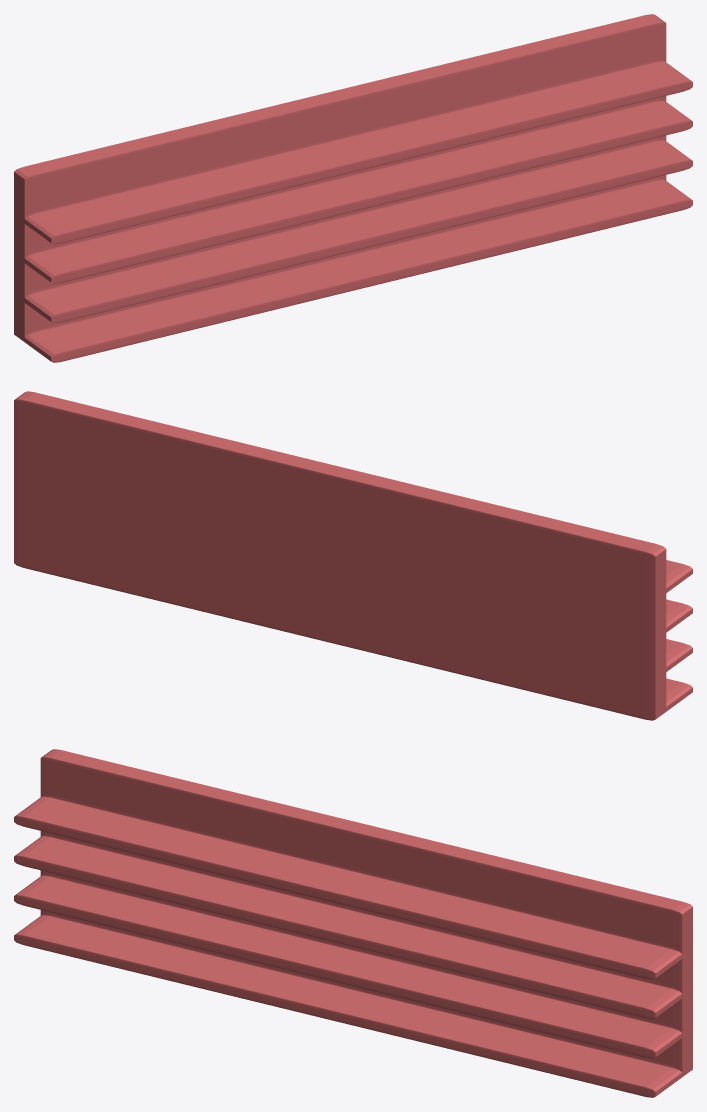
File: new_rack_custom.fbx
3 renders of one model, top to bottom at view 1: azimuth 30°, elevation 25°; view 2: azimuth 150°, elevation 25°; view 3: azimuth 330°, elevation 25°, orthographic.
Parts seen in each view (by area): view 1: rack; view 2: rack; view 3: rack.
Part boxes in pixels (x1,y1,x2,y2): rack: [14, 14, 692, 362]; rack: [14, 391, 692, 720]; rack: [14, 749, 692, 1097].
Bounding box in the file's own units: 400 × 100 × 40.7.
